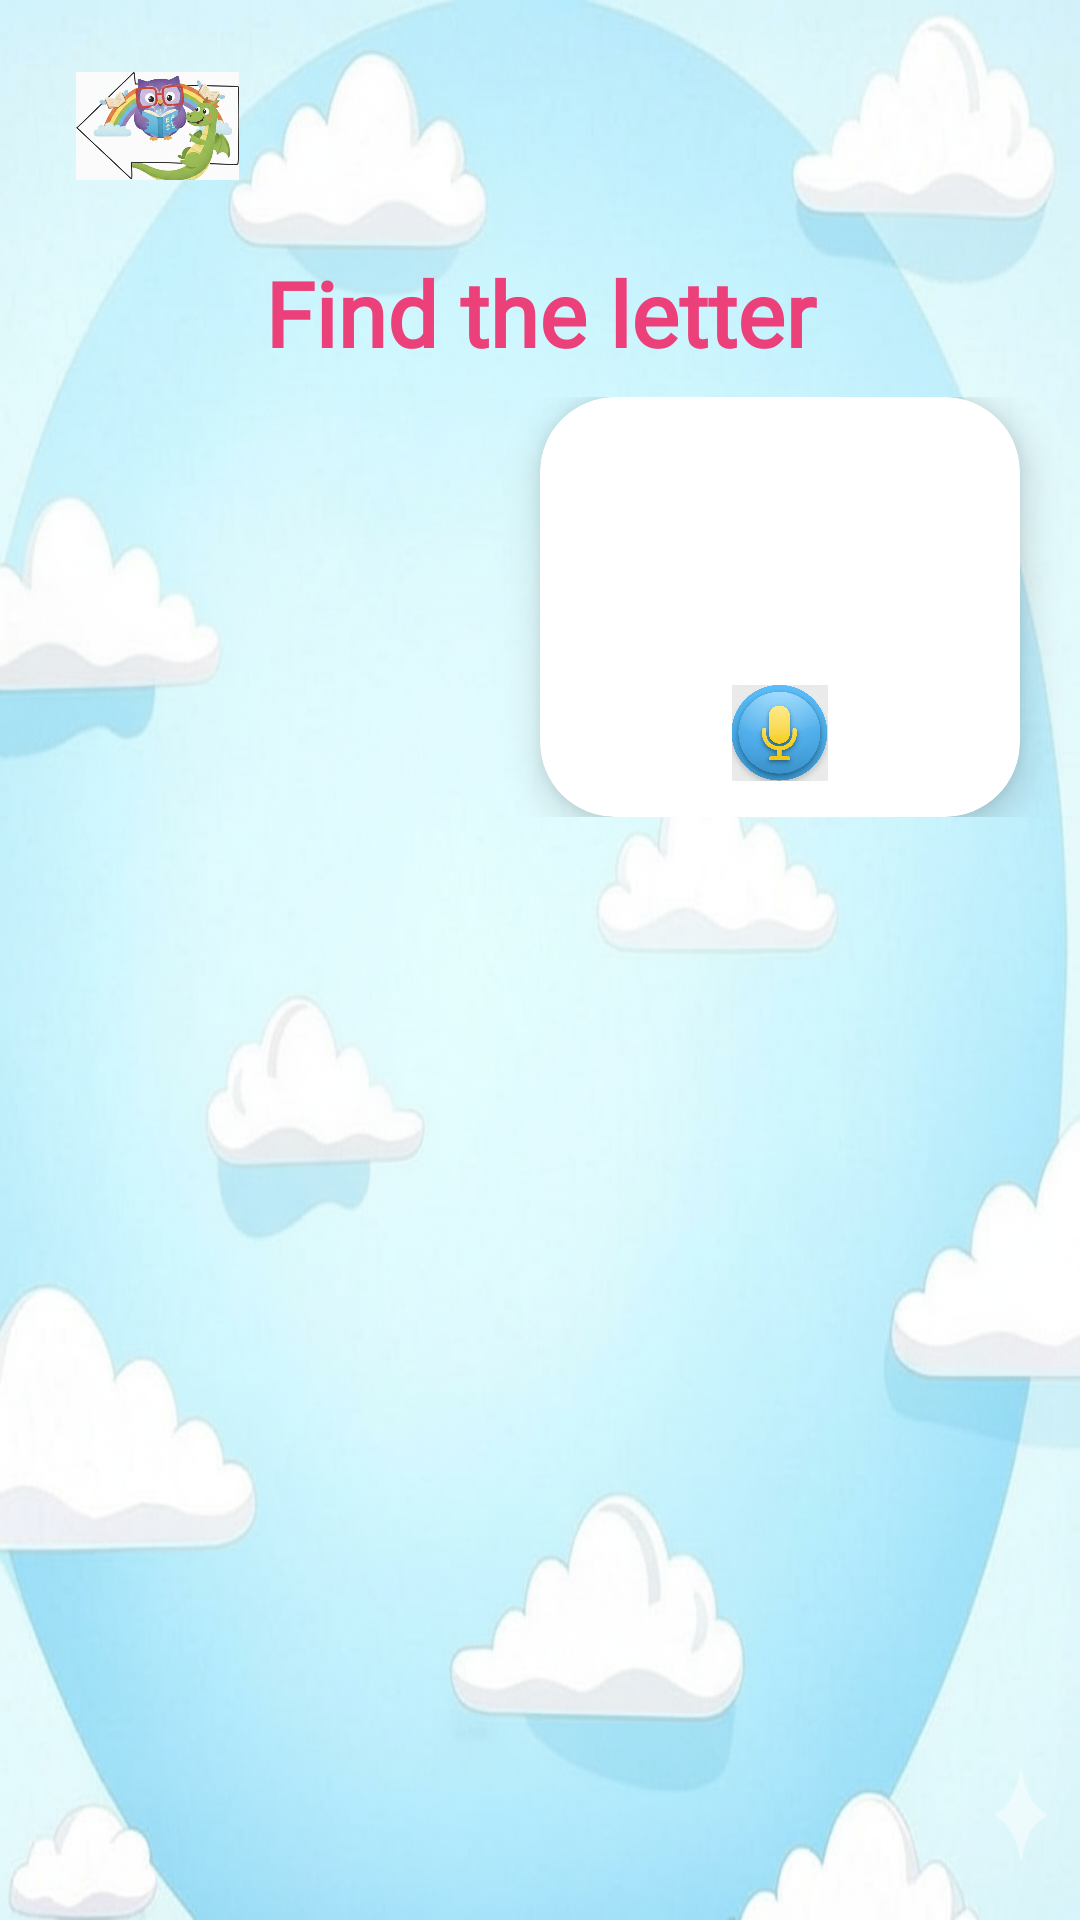

Screen size 1080px x 1920px. Icon name, then its center in pixels as [x,y]:
backarrow: [171,138]
microphone: [780,733]
